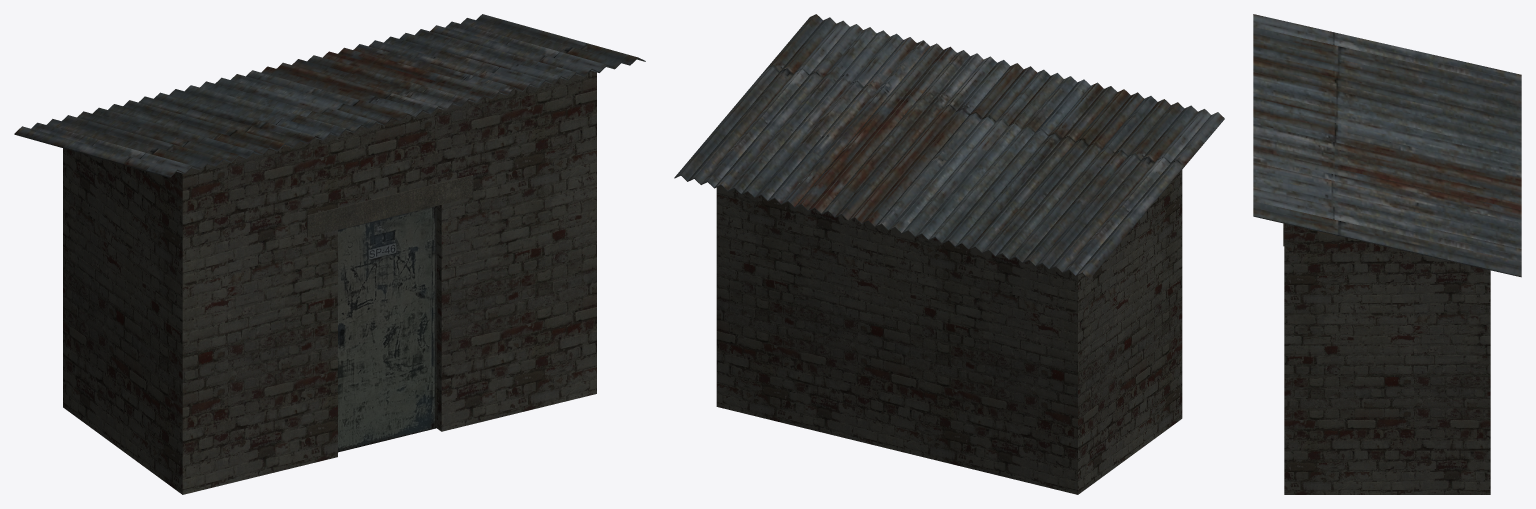
File: shed_ax_4.obj
3 renders of one model, left to right at view 1: azimuth 30°, elevation 25°; view 2: azimuth 150°, elevation 25°; view 3: azimuth 270°, elevation 25°, orthographic. The views are drawn at different scales.
Visible parts, largest first — view 1: shed_ax_4, door_hr_10; view 2: shed_ax_4; view 3: shed_ax_4.
Boxes of the visible parts, x1,y1,x2,y2 form: shed_ax_4: [14, 14, 645, 494]; door_hr_10: [338, 206, 436, 452]; shed_ax_4: [674, 14, 1224, 494]; shed_ax_4: [1253, 14, 1521, 494].
Bounding box in the file's own units: 4.59 × 3.17 × 2.6.
